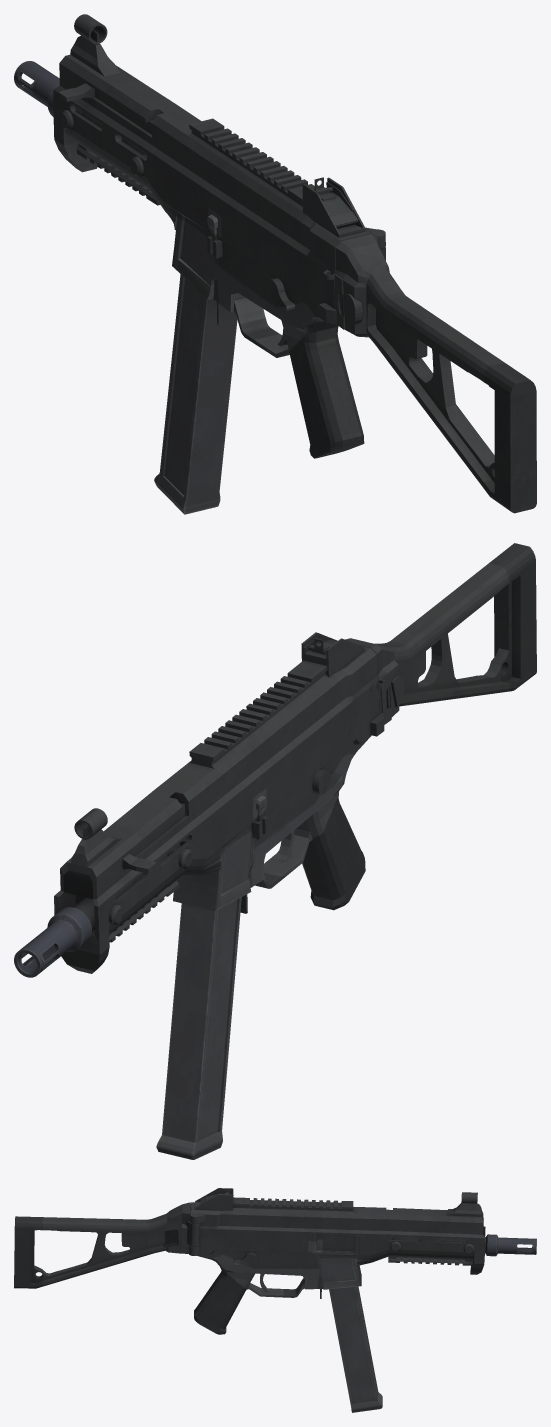
The model's file is ump45.glb.
3 renders of one model, top to bottom at view 1: azimuth 30°, elevation 25°; view 2: azimuth 150°, elevation 25°; view 3: azimuth 270°, elevation 25°, orthographic. The views are drawn at different scales.
Visible parts, largest first — view 1: govde, sarjor; view 2: govde, sarjor; view 3: govde, sarjor.
Boxes of the visible parts, x1=… form: govde: x1=14, y1=14, x2=536, y2=513; sarjor: x1=154, y1=274, x2=237, y2=514; govde: x1=14, y1=543, x2=536, y2=977; sarjor: x1=156, y1=894, x2=247, y2=1159; govde: x1=14, y1=1188, x2=536, y2=1334; sarjor: x1=320, y1=1281, x2=382, y2=1412.
Bounding box in the file's own units: 0.063 × 0.3199 × 0.69.
Materials: 1 (1 with a texture image).
